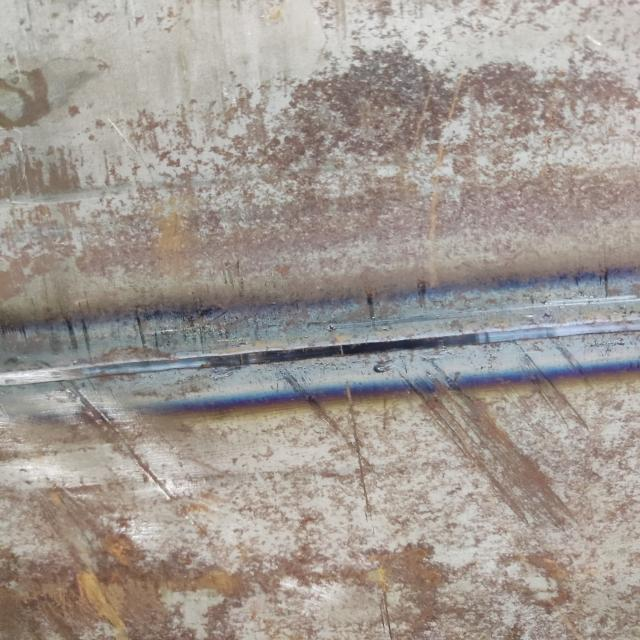seam: (0, 254, 640, 451)
